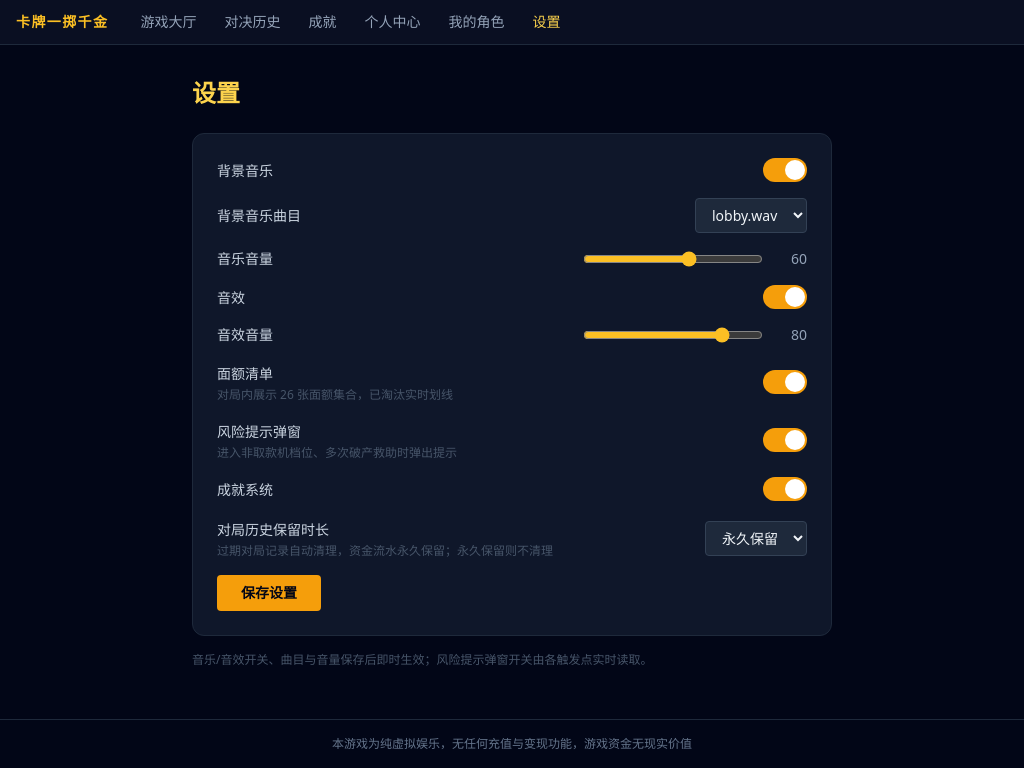
SettingsPage：对局历史保留时长下拉（M8 文档外补充） › 切换为 30 天并保存 → PUT 携带 historyRetentionDays=30，保存成功回显
Select "30 天" in the dropdown named "对局历史保留时长". click: (756, 538)
box: [705,520,807,556]
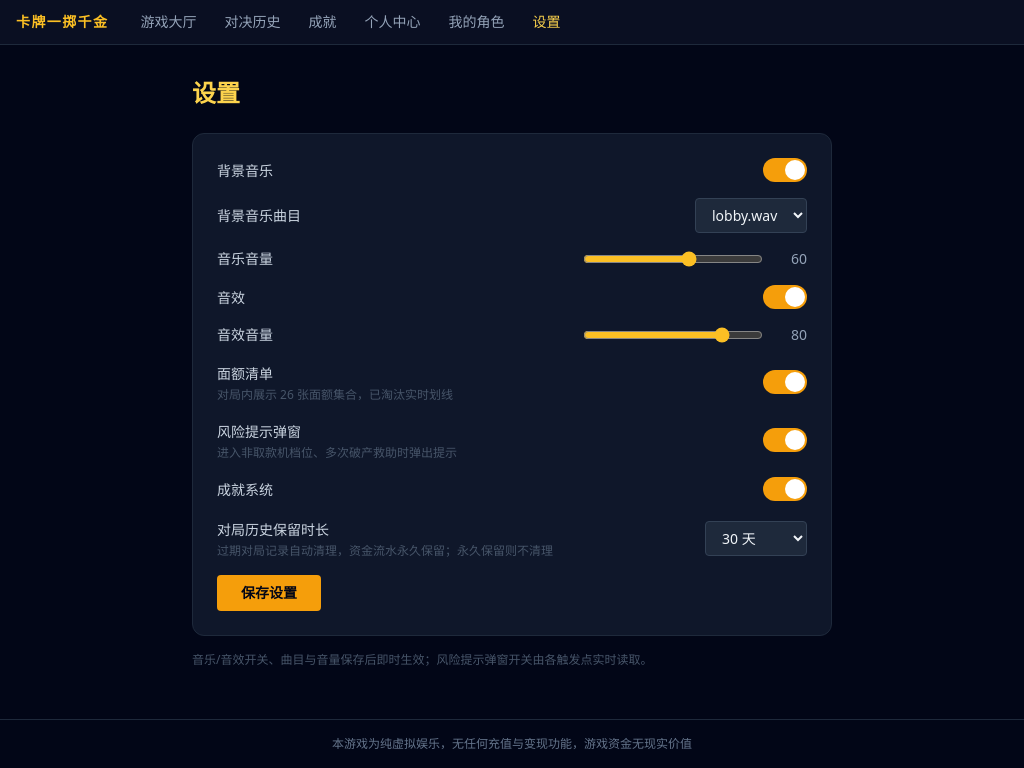
Click the button "保存设置". click: (269, 593)
box: [217,575,321,611]
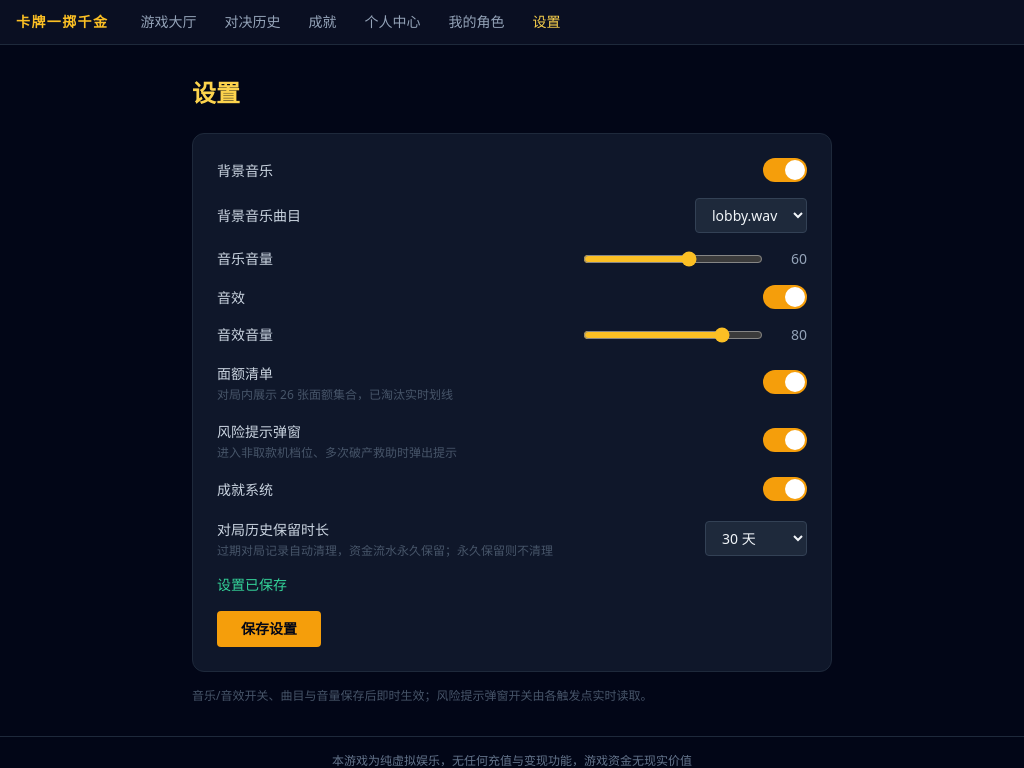
Now the text "设置已保存" is shown, box [217,575,287,594]
